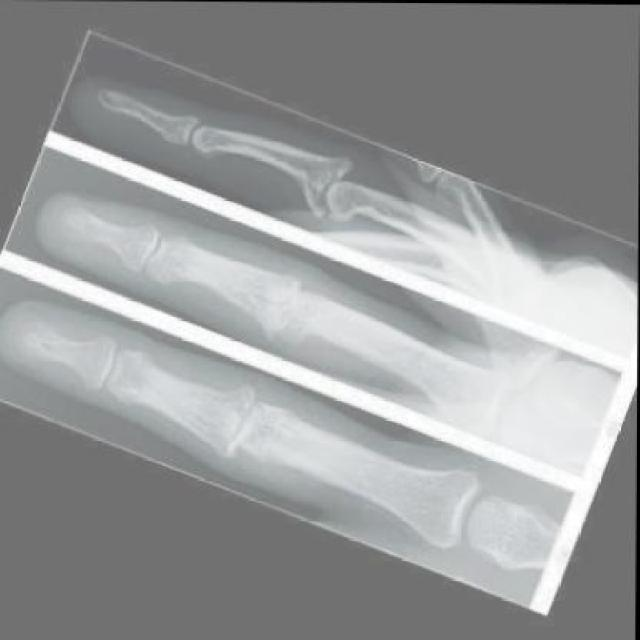Fracture: (270, 126, 394, 255), (239, 249, 343, 356), (192, 366, 290, 479)
